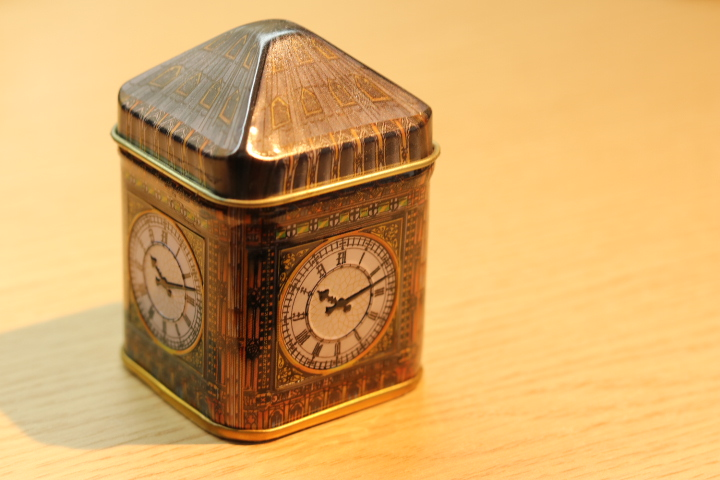Big Ben: (80, 9, 481, 463)
